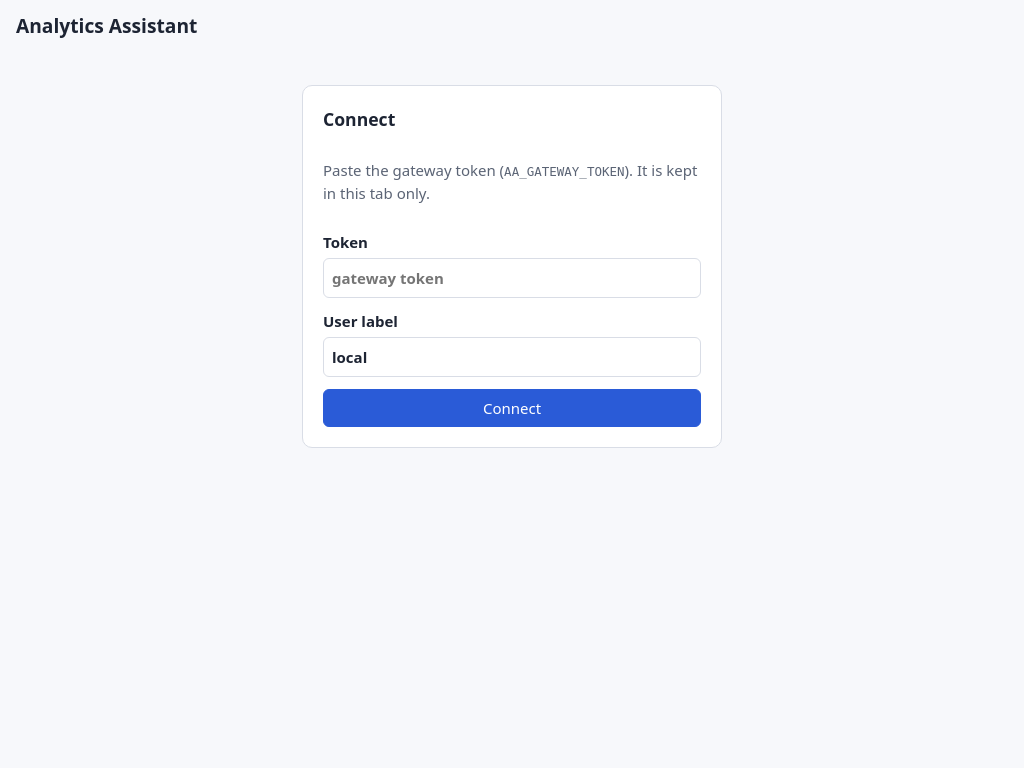
Test: App › renders model output as text, never as HTML
Later steps or results of the test are not shown.
Type "tok-1234" into the password field labelled "Token". click: (512, 278)
box: [323,258,701,298]
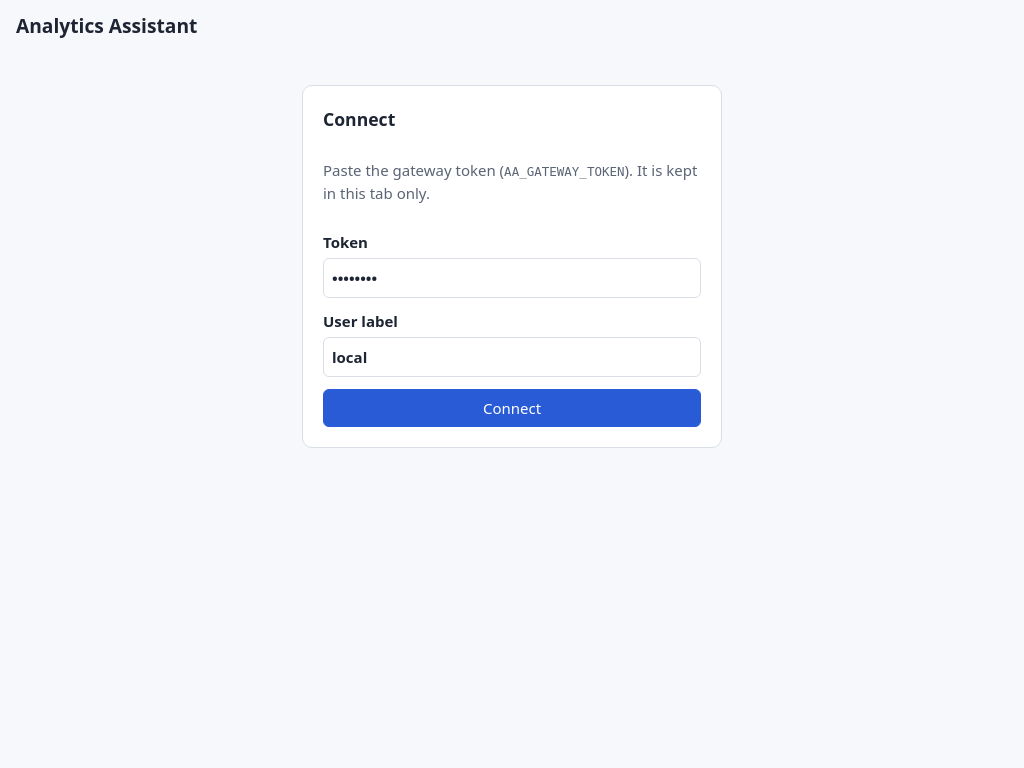
Click the button "Connect". click: (512, 408)
box: [323,389,701,427]
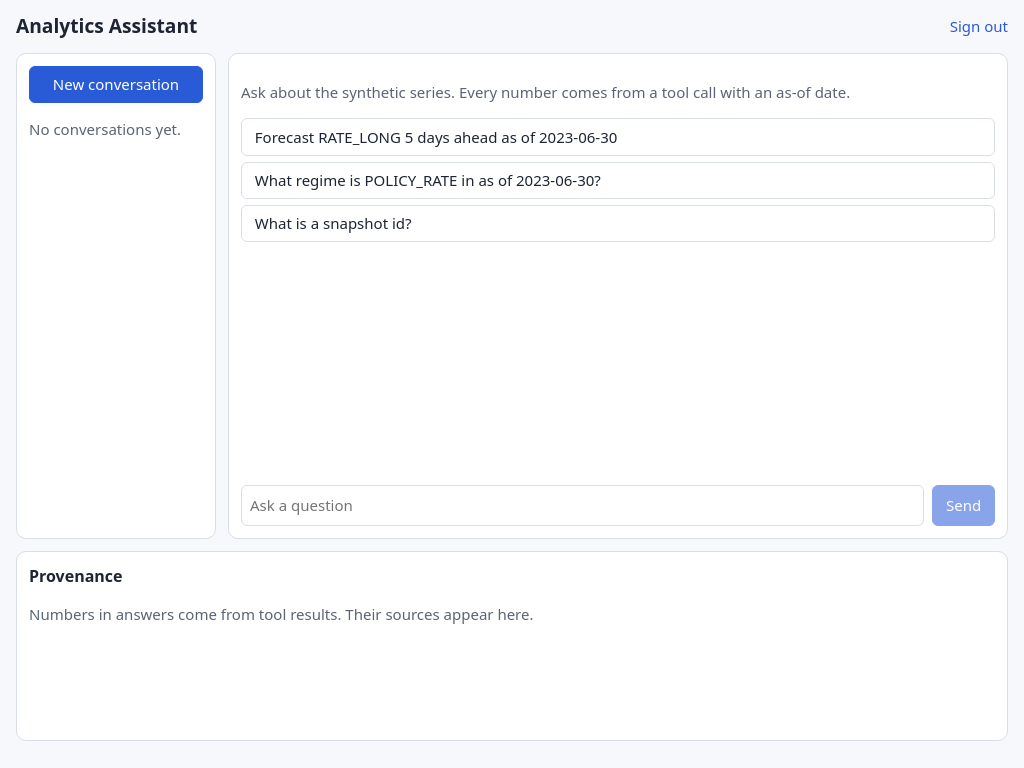
Now the text "No conversations yet." is shown, box [29,118,203,141]
